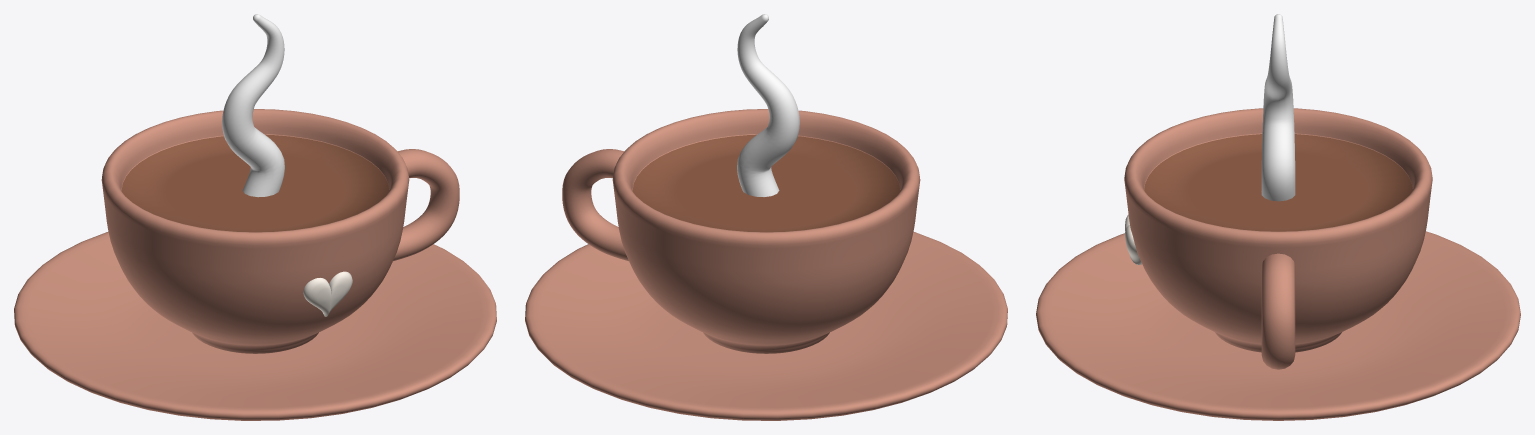
Rendered from 06-teacup.glb.
The picture shows the model from 3 angles, left to right: view 1: azimuth 30°, elevation 25°; view 2: azimuth 150°, elevation 25°; view 3: azimuth 270°, elevation 25°; orthographic projection.
Visible parts, largest first — view 1: Teacup; view 2: Teacup; view 3: Teacup.
Boxes of the visible parts, box(x1,y1,x2,y2) form: Teacup: box(14, 14, 496, 420); Teacup: box(525, 14, 1007, 420); Teacup: box(1036, 14, 1520, 420).
Size of the model in its own units: 1.2 by 0.9206 by 1.2.
